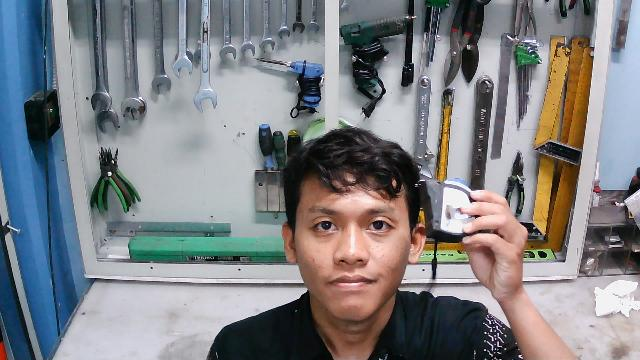meteran: (417, 171, 485, 245)
